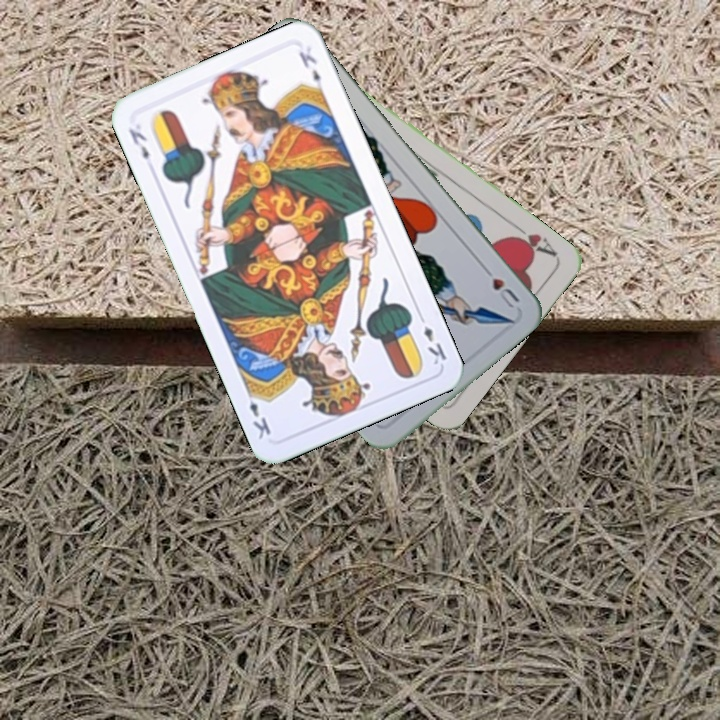EK: (414, 310, 450, 368), (124, 124, 152, 163)
HA: (506, 219, 560, 260)
HU: (478, 261, 522, 311)
